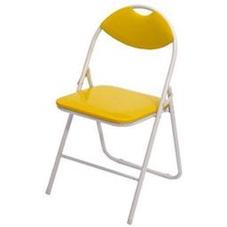chair: (41, 0, 212, 220)
